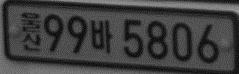0: (170, 21, 193, 63)
5: (122, 19, 143, 59)
6: (197, 24, 220, 64)
8: (146, 20, 168, 60)
9: (66, 14, 87, 53), (43, 13, 64, 51)
바: (90, 18, 113, 54)
울산_V: (20, 11, 42, 52)
